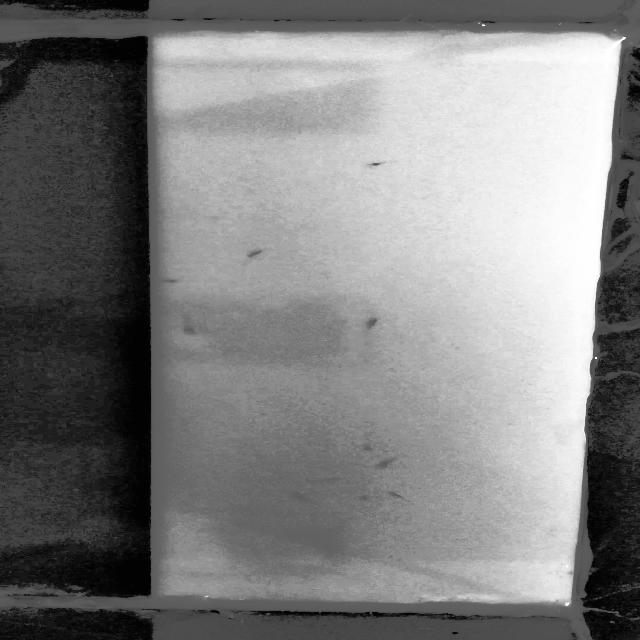shrimp: (359, 156, 403, 170), (362, 314, 387, 328), (175, 324, 203, 336), (349, 492, 377, 503), (292, 490, 313, 504), (355, 443, 381, 454), (388, 489, 410, 502), (244, 248, 268, 259), (160, 275, 182, 286), (378, 456, 393, 470)
